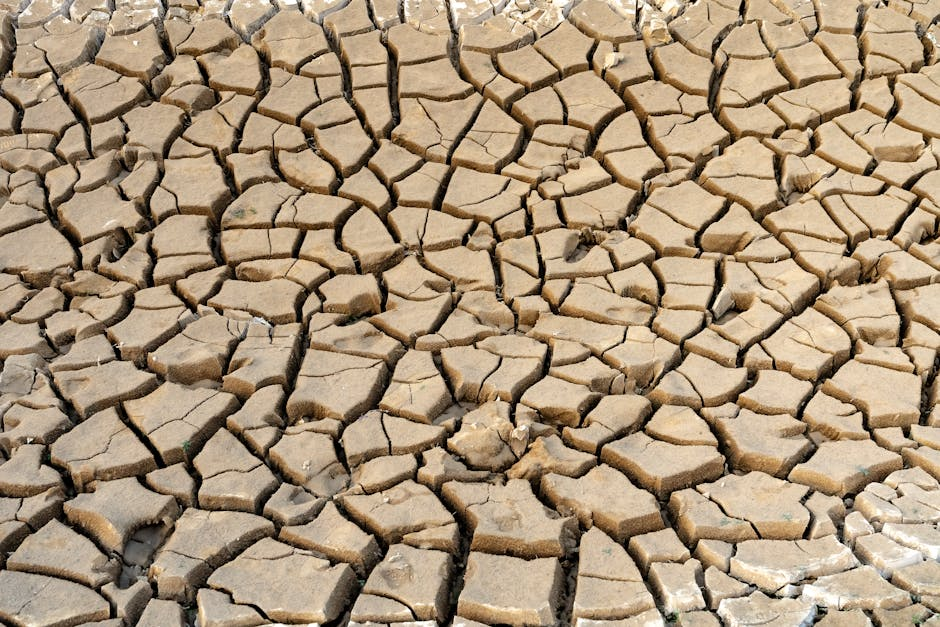深大裂缝: (7, 469, 192, 612), (524, 462, 596, 620), (418, 473, 486, 621), (328, 505, 387, 620)
细微裂纹: (685, 480, 772, 537), (775, 217, 851, 250), (704, 161, 780, 194)
网状裂隙: (62, 26, 699, 374)
